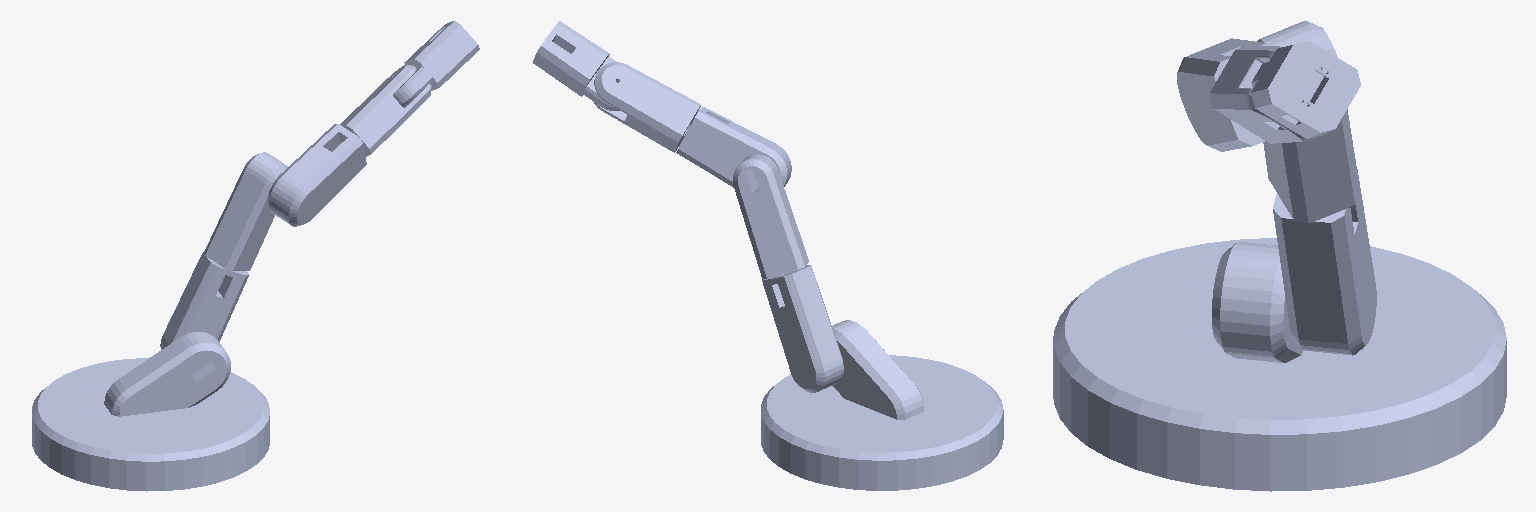
robot.urdf — arm:
<?xml version="1.0" encoding="utf-8"?>
<!-- This URDF was automatically created by SolidWorks to URDF Exporter! Originally created by [author] ([email redacted]) 
     Commit Version: 1.6.0-4-g7f85cfe  Build Version: 1.6.7995.38578
     For more information, please see http://wiki.ros.org/sw_urdf_exporter -->
<robot
  name="arm">
  <link
    name="base_link">
    <inertial>
      <origin
        xyz="3.25479092321589E-21 2.47006087070268E-18 0.0322824606373035"
        rpy="0 0 0" />
      <mass
        value="8.06902350047404" />
      <inertia
        ixx="0.0832914977316896"
        ixy="-5.84842542469133E-22"
        ixz="-1.76225154653853E-22"
        iyy="0.0832955238849743"
        iyz="4.76846783435556E-18"
        izz="0.160966672499056" />
    </inertial>
    <visual>
      <origin
        xyz="0 0 0"
        rpy="0 0 0" />
      <geometry>
        <mesh
          filename="package://arm/meshes/base_link.STL" />
      </geometry>
      <material
        name="">
        <color
          rgba="0.792156862745098 0.819607843137255 0.933333333333333 1" />
      </material>
    </visual>
    <collision>
      <origin
        xyz="0 0 0"
        rpy="0 0 0" />
      <geometry>
        <mesh
          filename="package://arm/meshes/base_link.STL" />
      </geometry>
    </collision>
  </link>
  <link
    name="Link 1">
    <inertial>
      <origin
        xyz="0.0783521774476468 0.0921082793925729 4.90597538775062E-05"
        rpy="0 0 0" />
      <mass
        value="0.934565597220902" />
      <inertia
        ixx="0.00289623013999515"
        ixy="0.00041529244531365"
        ixz="3.19225255922078E-07"
        iyy="0.000941417812674983"
        iyz="-2.0742837824527E-06"
        izz="0.00321264958649519" />
    </inertial>
    <visual>
      <origin
        xyz="0 0 0"
        rpy="0 0 0" />
      <geometry>
        <mesh
          filename="package://arm/meshes/Link 1.STL" />
      </geometry>
      <material
        name="">
        <color
          rgba="0.792156862745098 0.819607843137255 0.933333333333333 1" />
      </material>
    </visual>
    <collision>
      <origin
        xyz="0 0 0"
        rpy="0 0 0" />
      <geometry>
        <mesh
          filename="package://arm/meshes/Link 1.STL" />
      </geometry>
    </collision>
  </link>
  <joint
    name="J1"
    type="revolute">
    <origin
      xyz="0 0 0"
      rpy="1.57079632679489 -1.04719755119658 2.90734093334632" />
    <parent
      link="base_link" />
    <child
      link="Link 1" />
    <axis
      xyz="0.866025403784428 0.500000000000018 0" />
    <limit
      lower="0"
      upper="0"
      effort="0"
      velocity="0" />
  </joint>
  <link
    name="Link 2">
    <inertial>
      <origin
        xyz="8.67361737988404E-17 0.0615151777441255 -0.0291227537838887"
        rpy="0 0 0" />
      <mass
        value="0.890903908688773" />
      <inertia
        ixx="0.0029825603096014"
        ixy="-2.10402984097968E-18"
        ixz="-5.42101086242752E-20"
        iyy="0.000716462409409863"
        iyz="-6.83896723797258E-06"
        izz="0.00311758743436415" />
    </inertial>
    <visual>
      <origin
        xyz="0 0 0"
        rpy="0 0 0" />
      <geometry>
        <mesh
          filename="package://arm/meshes/Link 2.STL" />
      </geometry>
      <material
        name="">
        <color
          rgba="0.792156862745098 0.819607843137255 0.933333333333333 1" />
      </material>
    </visual>
    <collision>
      <origin
        xyz="0 0 0"
        rpy="0 0 0" />
      <geometry>
        <mesh
          filename="package://arm/meshes/Link 2.STL" />
      </geometry>
    </collision>
  </link>
  <joint
    name="J2"
    type="revolute">
    <origin
      xyz="0.071389727457339 0.137349364905391 0.0390020355239111"
      rpy="3.14159265358979 0 2.52977184057222" />
    <parent
      link="Link 1" />
    <child
      link="Link 2" />
    <axis
      xyz="0 0 1" />
    <limit
      lower="0"
      upper="0"
      effort="0"
      velocity="0" />
  </joint>
  <link
    name="Link 3">
    <inertial>
      <origin
        xyz="9.0205620750794E-17 0.131423157128198 5.67889432701169E-05"
        rpy="0 0 0" />
      <mass
        value="0.807367694170484" />
      <inertia
        ixx="0.00259581377231479"
        ixy="-1.57717534778751E-18"
        ixz="0"
        iyy="0.000597502088672014"
        iyz="-3.29613204525467E-06"
        izz="0.00266390236892209" />
    </inertial>
    <visual>
      <origin
        xyz="0 0 0"
        rpy="0 0 0" />
      <geometry>
        <mesh
          filename="package://arm/meshes/Link 3.STL" />
      </geometry>
      <material
        name="">
        <color
          rgba="0.792156862745098 0.819607843137255 0.933333333333333 1" />
      </material>
    </visual>
    <collision>
      <origin
        xyz="0 0 0"
        rpy="0 0 0" />
      <geometry>
        <mesh
          filename="package://arm/meshes/Link 3.STL" />
      </geometry>
    </collision>
  </link>
  <joint
    name="J3"
    type="revolute">
    <origin
      xyz="0 0.124686683491331 -0.0289979644760894"
      rpy="0 0.633648952817516 0" />
    <parent
      link="Link 2" />
    <child
      link="Link 3" />
    <axis
      xyz="0 1 0" />
    <limit
      lower="0"
      upper="0"
      effort="0"
      velocity="0" />
  </joint>
  <link
    name="Link 4">
    <inertial>
      <origin
        xyz="5.68789947352766E-06 0.0448174738478217 -0.0681307538176968"
        rpy="0 0 0" />
      <mass
        value="0.85026785319168" />
      <inertia
        ixx="0.00234136324066375"
        ixy="1.06328959993442E-06"
        ixz="-6.31826871638069E-10"
        iyy="0.000772113878098402"
        iyz="-4.98256662781657E-06"
        izz="0.00251347600537305" />
    </inertial>
    <visual>
      <origin
        xyz="0 0 0"
        rpy="0 0 0" />
      <geometry>
        <mesh
          filename="package://arm/meshes/Link 4.STL" />
      </geometry>
      <material
        name="">
        <color
          rgba="0.792156862745098 0.819607843137255 0.933333333333333 1" />
      </material>
    </visual>
    <collision>
      <origin
        xyz="0 0 0"
        rpy="0 0 0" />
      <geometry>
        <mesh
          filename="package://arm/meshes/Link 4.STL" />
      </geometry>
    </collision>
  </link>
  <joint
    name="J4"
    type="revolute">
    <origin
      xyz="0 0.203313316508669 0"
      rpy="-3.14159265358979 0 2.3727514107116" />
    <parent
      link="Link 3" />
    <child
      link="Link 4" />
    <axis
      xyz="0 0 1" />
    <limit
      lower="0"
      upper="0"
      effort="0"
      velocity="0" />
  </joint>
  <link
    name="Link 5">
    <inertial>
      <origin
        xyz="-1.55875312657372E-12 0.0846291283691472 0.000315691746062413"
        rpy="0 0 0" />
      <mass
        value="0.626144083118912" />
      <inertia
        ixx="0.00147092834508345"
        ixy="7.9218458236361E-14"
        ixz="-7.58916584089886E-14"
        iyy="0.000532158978727164"
        iyz="-1.35364459057014E-05"
        izz="0.0015159065310441" />
    </inertial>
    <visual>
      <origin
        xyz="0 0 0"
        rpy="0 0 0" />
      <geometry>
        <mesh
          filename="package://arm/meshes/Link 5.STL" />
      </geometry>
      <material
        name="">
        <color
          rgba="0.792156862745098 0.819607843137255 0.933333333333333 1" />
      </material>
    </visual>
    <collision>
      <origin
        xyz="0 0 0"
        rpy="0 0 0" />
      <geometry>
        <mesh
          filename="package://arm/meshes/Link 5.STL" />
      </geometry>
    </collision>
  </link>
  <joint
    name="J5"
    type="revolute">
    <origin
      xyz="0 0.124890241853048 -0.0680000000000002"
      rpy="0 0.655112863125005 0" />
    <parent
      link="Link 4" />
    <child
      link="Link 5" />
    <axis
      xyz="0 1 0" />
    <limit
      lower="0"
      upper="0"
      effort="0"
      velocity="0" />
  </joint>
  <link
    name="Link 6">
    <inertial>
      <origin
        xyz="1.38777878078145E-16 0.0642897042087942 -8.05832199057555E-05"
        rpy="0 0 0" />
      <mass
        value="0.537572111517303" />
      <inertia
        ixx="0.00119948797156191"
        ixy="-8.06375365786094E-19"
        ixz="-5.42101086242752E-20"
        iyy="0.000373644714298053"
        iyz="-2.78498444848688E-06"
        izz="0.00129181093248291" />
    </inertial>
    <visual>
      <origin
        xyz="0 0 0"
        rpy="0 0 0" />
      <geometry>
        <mesh
          filename="package://arm/meshes/Link 6.STL" />
      </geometry>
      <material
        name="">
        <color
          rgba="0.792156862745098 0.819607843137255 0.933333333333333 1" />
      </material>
    </visual>
    <collision>
      <origin
        xyz="0 0 0"
        rpy="0 0 0" />
      <geometry>
        <mesh
          filename="package://arm/meshes/Link 6.STL" />
      </geometry>
    </collision>
  </link>
  <joint
    name="J6"
    type="continuous">
    <origin
      xyz="0 0.153109758146952 0"
      rpy="3.14159265358979 0 3.05154839233588" />
    <parent
      link="Link 5" />
    <child
      link="Link 6" />
    <axis
      xyz="0 0 1" />
    <limit
      lower="0"
      upper="0"
      effort="0"
      velocity="0" />
  </joint>
</robot>

--- What the picture shows (computed from the rendered views, not written in the file) ---
The picture shows the robot from 3 angles, left to right: view 1: azimuth 30°, elevation 25°; view 2: azimuth 150°, elevation 25°; view 3: azimuth 270°, elevation 25°; orthographic projection.
Model arm with 7 links and 6 joints (5 revolute, 1 continuous), rooted at base_link, posed all joints at 0.
Visible links, largest first — view 1: base_link, Link 1, Link 4, Link 3, Link 2, Link 5, Link 6; view 2: base_link, Link 2, Link 3, Link 5, Link 1, Link 4, Link 6; view 3: base_link, Link 2, Link 1, Link 3, Link 6, Link 4, Link 5.
Link boxes in pixels (bbox=[...]): base_link: bbox=[32, 358, 269, 491]; Link 1: bbox=[104, 332, 230, 416]; Link 4: bbox=[268, 124, 366, 226]; Link 3: bbox=[204, 152, 287, 270]; Link 2: bbox=[160, 252, 248, 349]; Link 5: bbox=[340, 65, 431, 156]; Link 6: bbox=[393, 21, 479, 106]; base_link: bbox=[761, 355, 1003, 490]; Link 2: bbox=[762, 265, 843, 392]; Link 3: bbox=[733, 154, 808, 279]; Link 5: bbox=[593, 62, 700, 152]; Link 1: bbox=[832, 320, 923, 419]; Link 4: bbox=[676, 107, 791, 187]; Link 6: bbox=[533, 21, 619, 110]; base_link: bbox=[1053, 238, 1506, 491]; Link 2: bbox=[1273, 169, 1376, 355]; Link 1: bbox=[1212, 242, 1302, 362]; Link 3: bbox=[1257, 21, 1360, 223]; Link 6: bbox=[1251, 41, 1360, 138]; Link 4: bbox=[1177, 38, 1271, 151]; Link 5: bbox=[1210, 46, 1316, 143].
Bounding box of the posed robot: 0.8387 × 0.4 × 0.6263 m (x, y, z).
Meshes: 7 distinct files referenced, 7 mesh visuals loaded (7 binary STL).